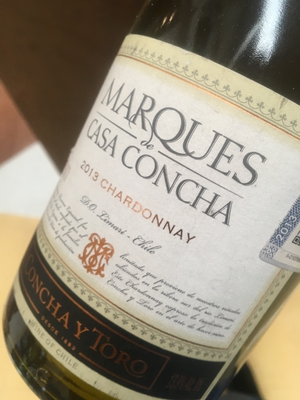marques de casa concha chardonnay: (9, 19, 300, 397)
